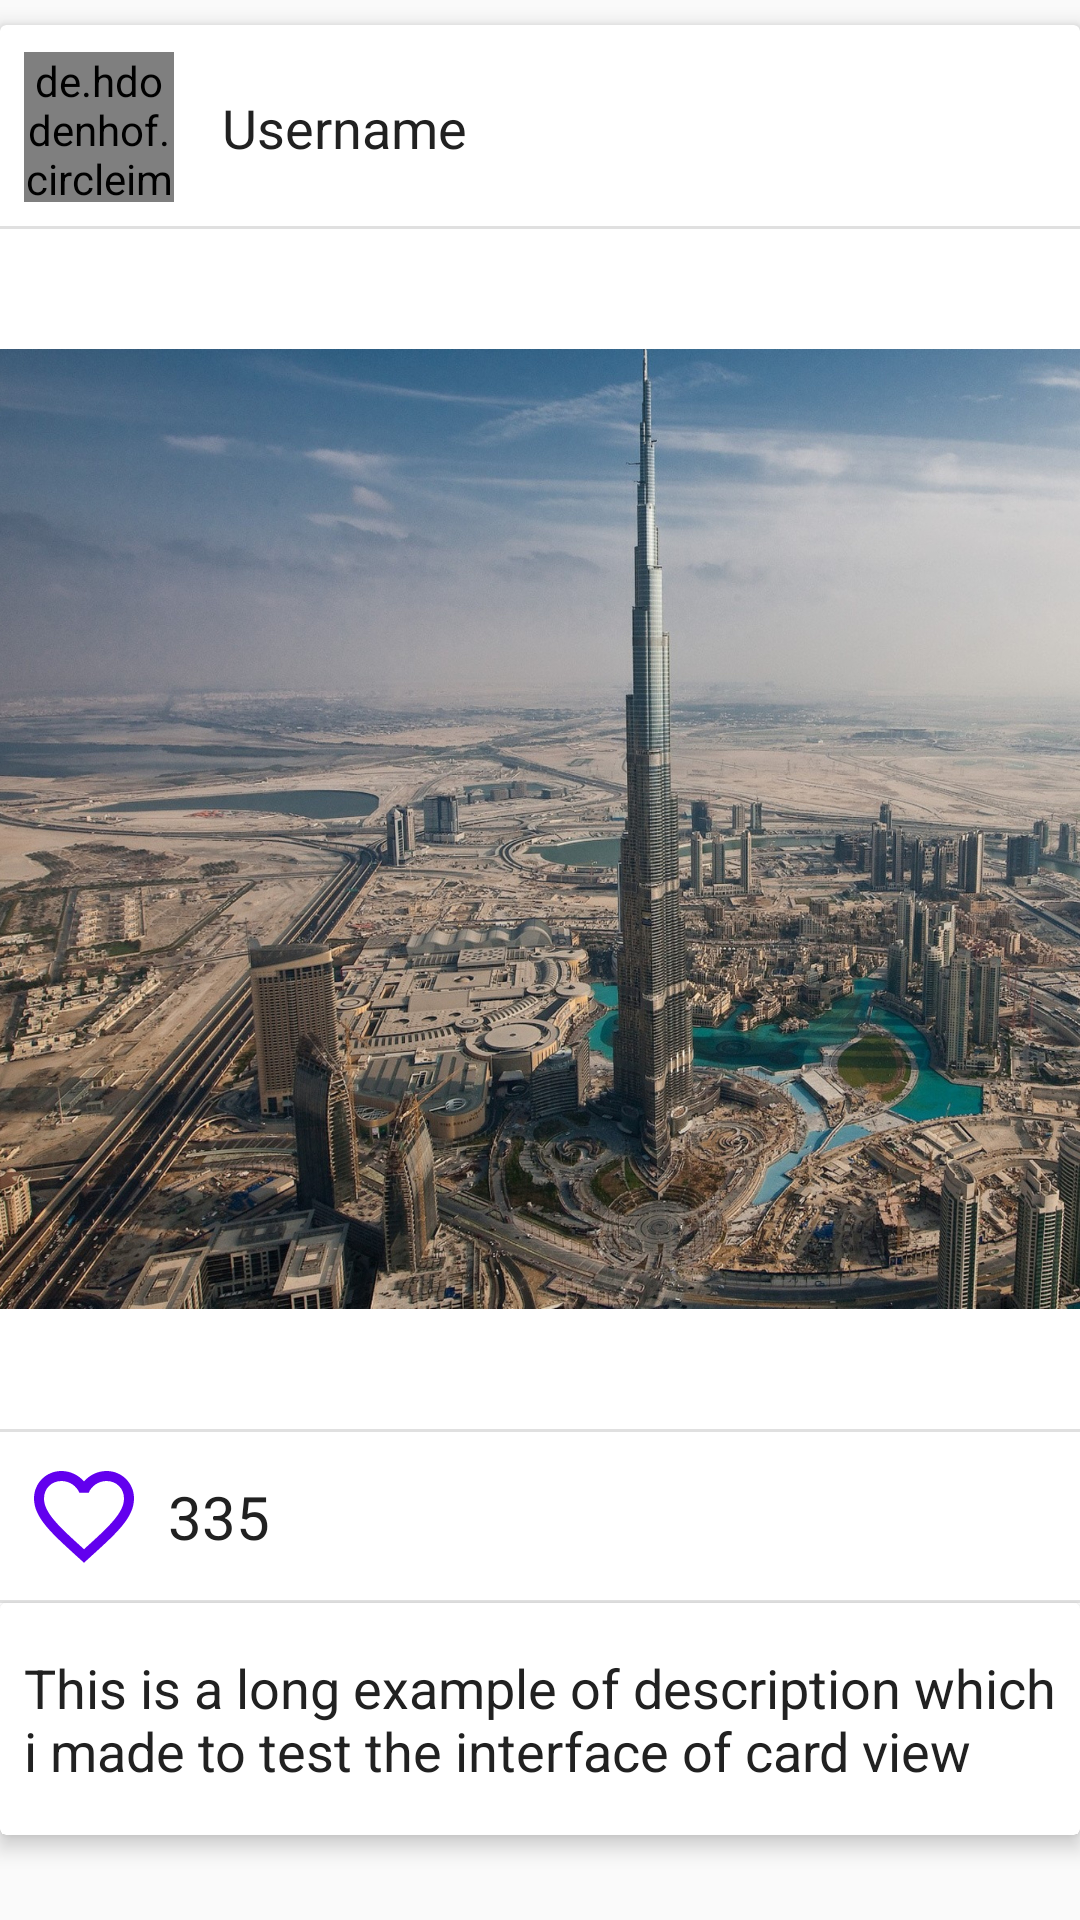

Locate icon controls on the screen. Image size 1080px×1920px, boxes as bbox=[x1, y1, x2, y2].
favorite border: bbox=[34, 1471, 134, 1563]
